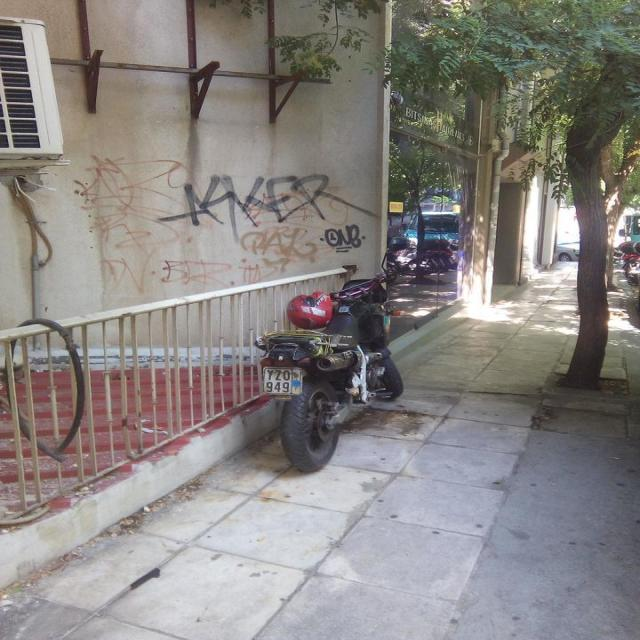nonspitting: (72, 156, 234, 292), (160, 175, 377, 228), (239, 230, 317, 272), (319, 224, 366, 253)
